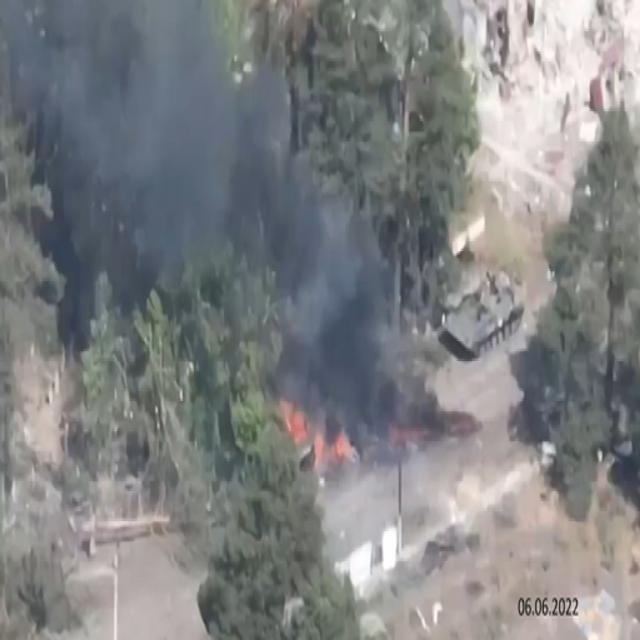APC-IFV: (436, 251, 530, 369)
